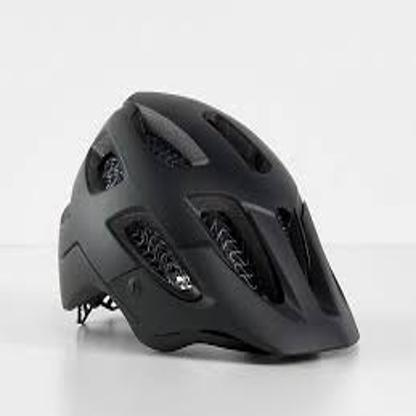not trash: (54, 85, 356, 359)
